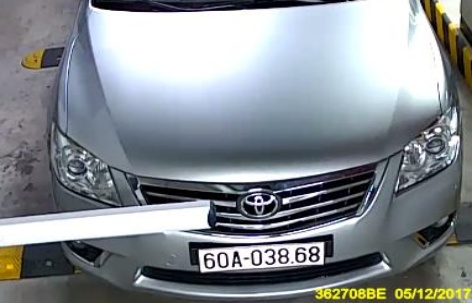plate: (195, 238, 335, 277)
